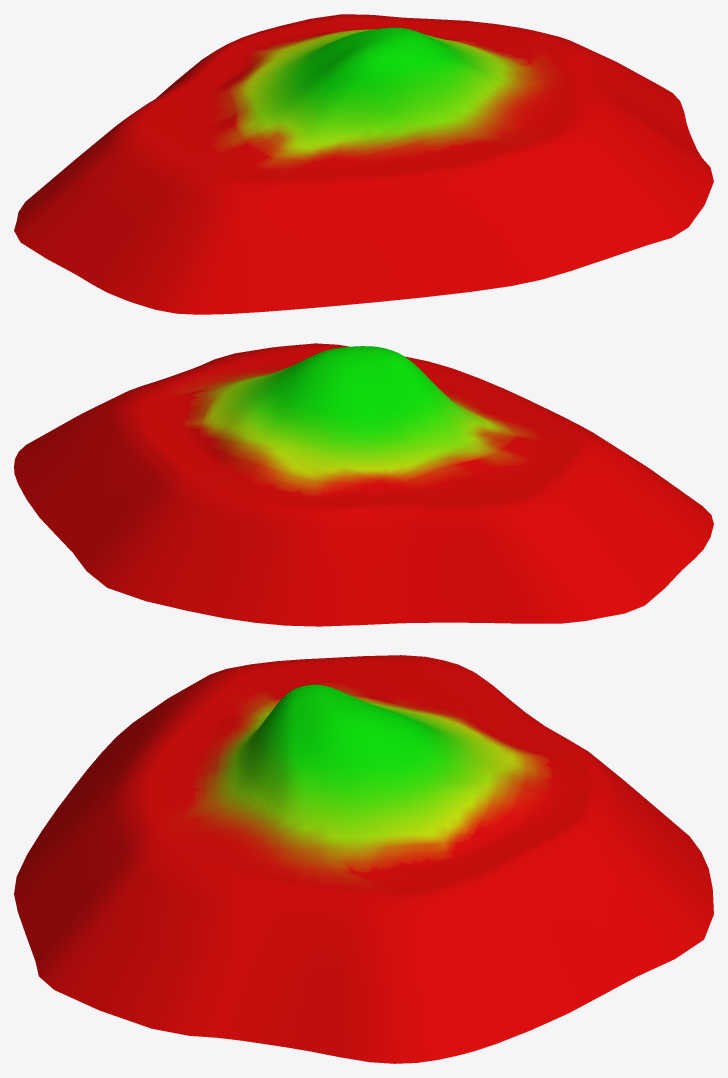
Rendered from island1lvl2.fbx.
3 views of the same model, one above another, from view 1: azimuth 30°, elevation 25°; view 2: azimuth 150°, elevation 25°; view 3: azimuth 270°, elevation 25° (orthographic). The views are drawn at different scales.
Parts seen in each view (by area): view 1: pPlane3; view 2: pPlane3; view 3: pPlane3.
Part boxes in pixels (<box>): pPlane3: <box>14,14,713,314</box>; pPlane3: <box>14,343,713,626</box>; pPlane3: <box>14,655,713,1063</box>.
Bounding box in the file's own units: 16.99 × 3.81 × 13.35.
